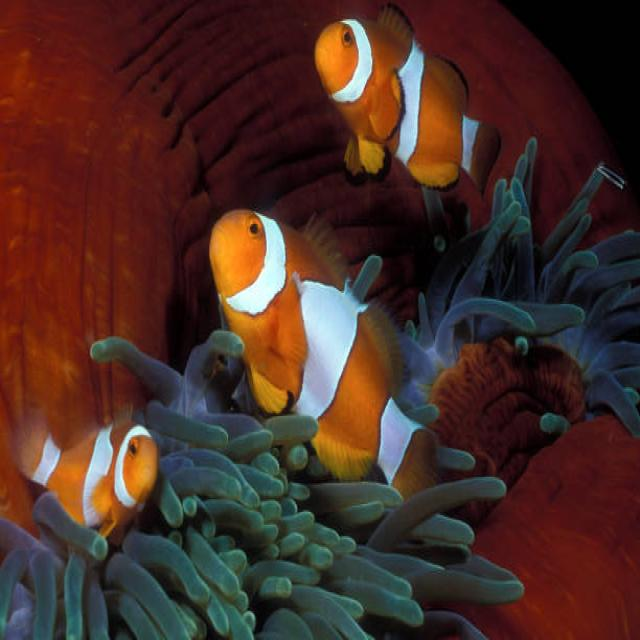ClownFish: (203, 202, 443, 499), (317, 5, 502, 194), (13, 406, 161, 540)
